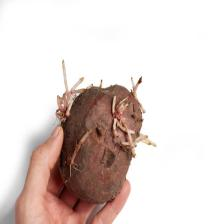Sprouted potato: (52, 70, 168, 215)
